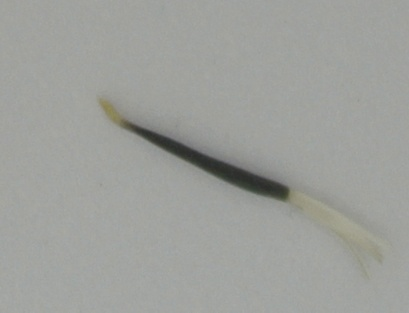เมล็ดดีเรียวยาว: (96, 97, 396, 285)
